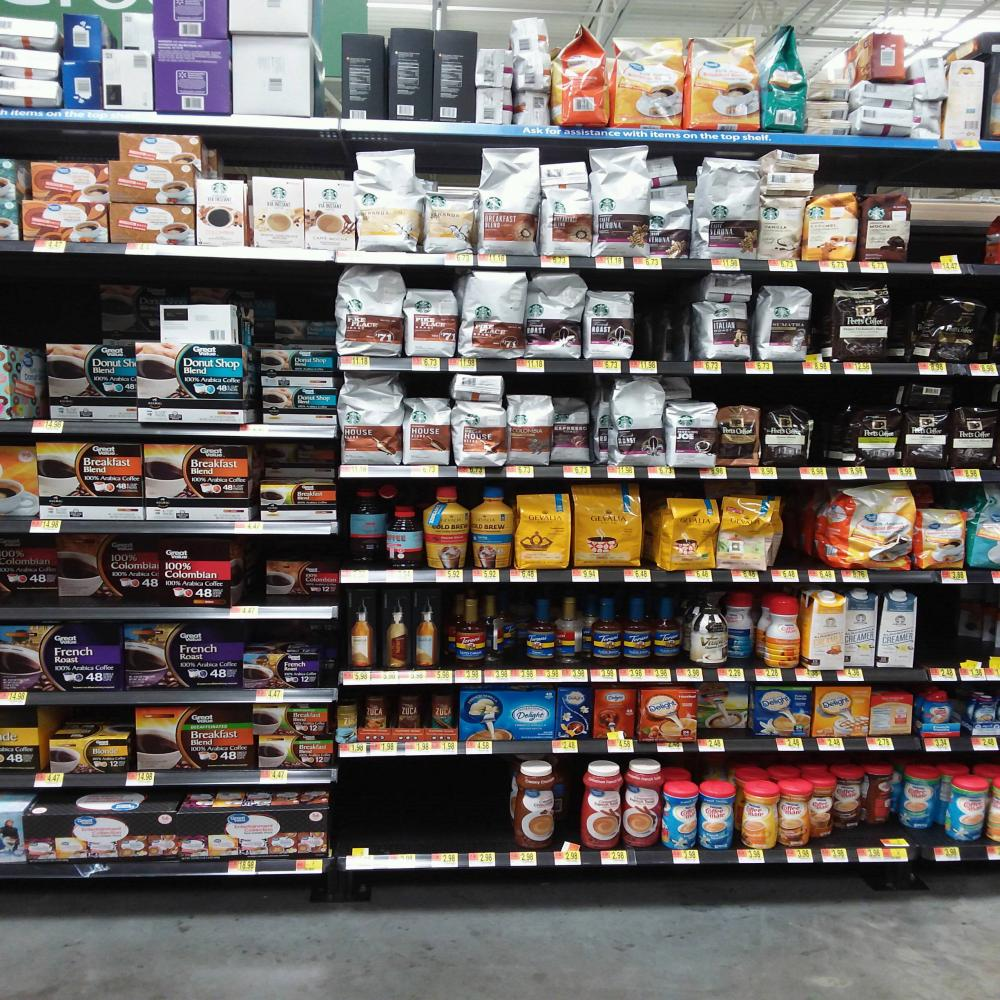shelf: (0, 111, 1000, 152), (0, 241, 1000, 279), (334, 845, 1000, 873), (336, 738, 1000, 760), (335, 359, 1000, 380), (341, 465, 1000, 483), (338, 670, 1000, 686), (339, 568, 1000, 582), (0, 764, 337, 788), (0, 855, 332, 877), (0, 516, 337, 535), (0, 420, 333, 438), (0, 687, 338, 702), (0, 607, 339, 619)
